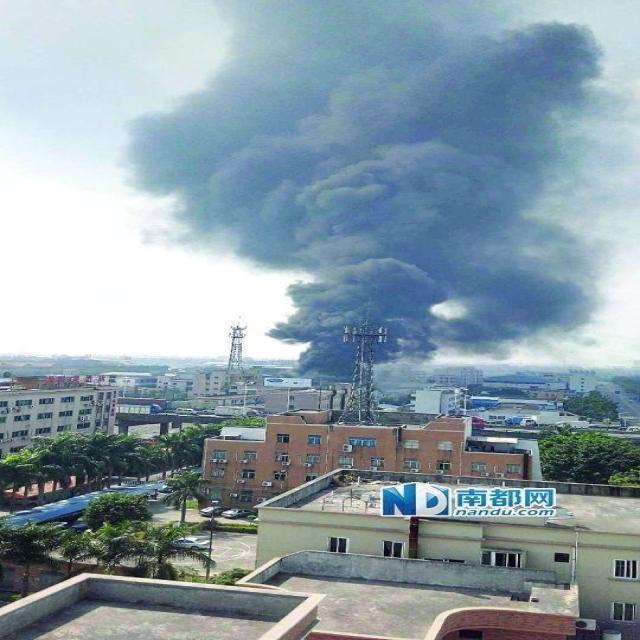Smoke: (123, 1, 640, 392)
